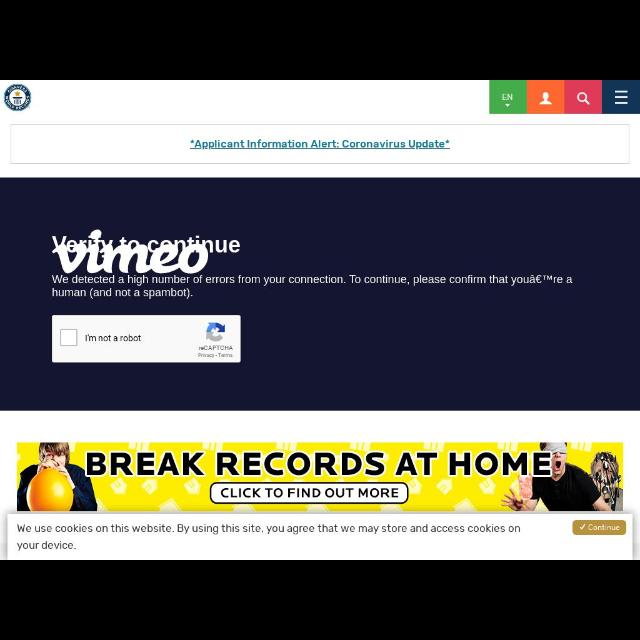button: (489, 81, 528, 112), (528, 81, 564, 113), (565, 81, 601, 113), (602, 81, 638, 112)
checkbox: (61, 330, 77, 346)
icon: (576, 92, 590, 106), (616, 90, 628, 106), (540, 92, 552, 106), (504, 102, 512, 108), (578, 524, 586, 530)
iframe: (18, 442, 624, 510)
image: (52, 229, 208, 273), (4, 84, 32, 112), (205, 322, 228, 343)
link: (190, 138, 450, 150)
text: (15, 523, 522, 553), (52, 274, 572, 300), (52, 234, 240, 253), (84, 332, 142, 342), (588, 524, 620, 532), (198, 352, 232, 358), (198, 346, 232, 350), (501, 94, 515, 100)
textbutton: (572, 520, 626, 536)
